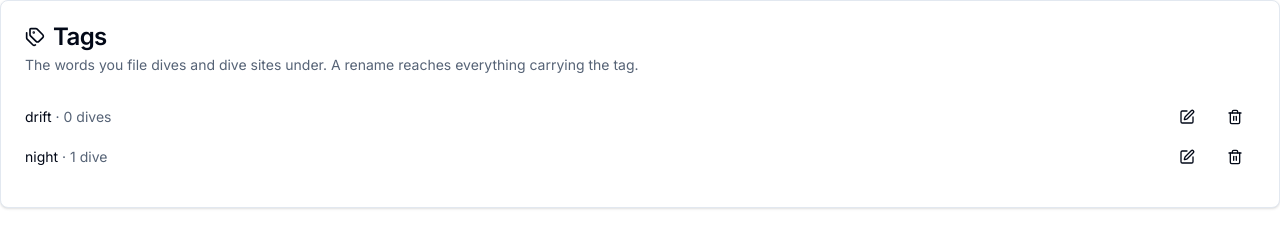
Scenario: TagsCard › keeps the row open with the API's reason when the name is taken
This screenshot has width=1280, height=246.
expect the text "· 1 dive" is shown: met, box [58,148,107,165]
Step 1. Click the button named "Rename \"night\"" → (1187, 157), box [1167,139,1207,175]
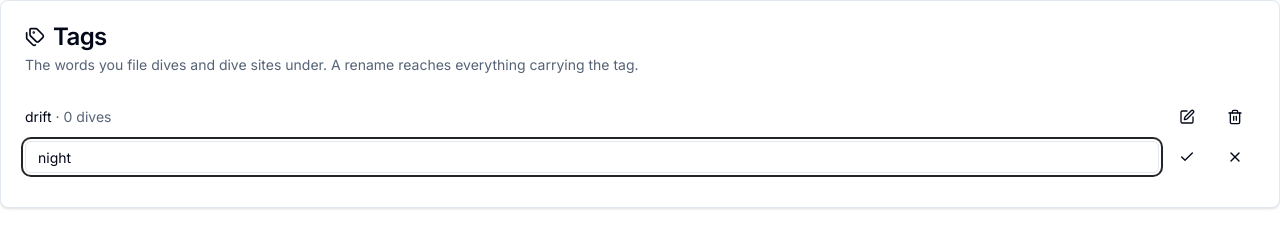
Step 2. Replace the text in the field named "New name for \"night\"" with "Drift" → (592, 157), box [25,141,1159,173]
Then press Enter
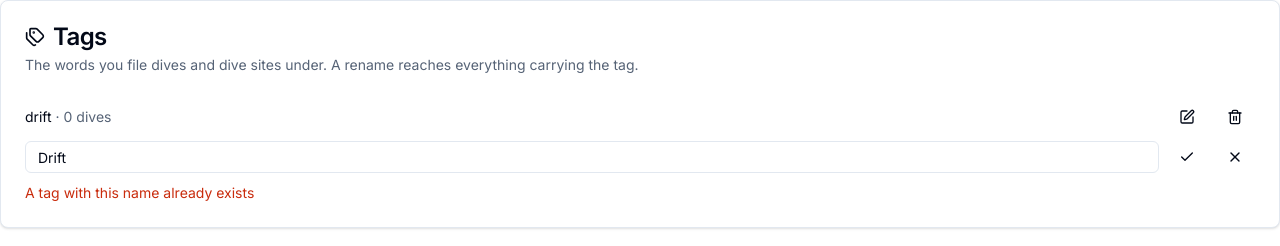
expect the message reads "A tag with this name already exists": met, box [25,184,254,201]
